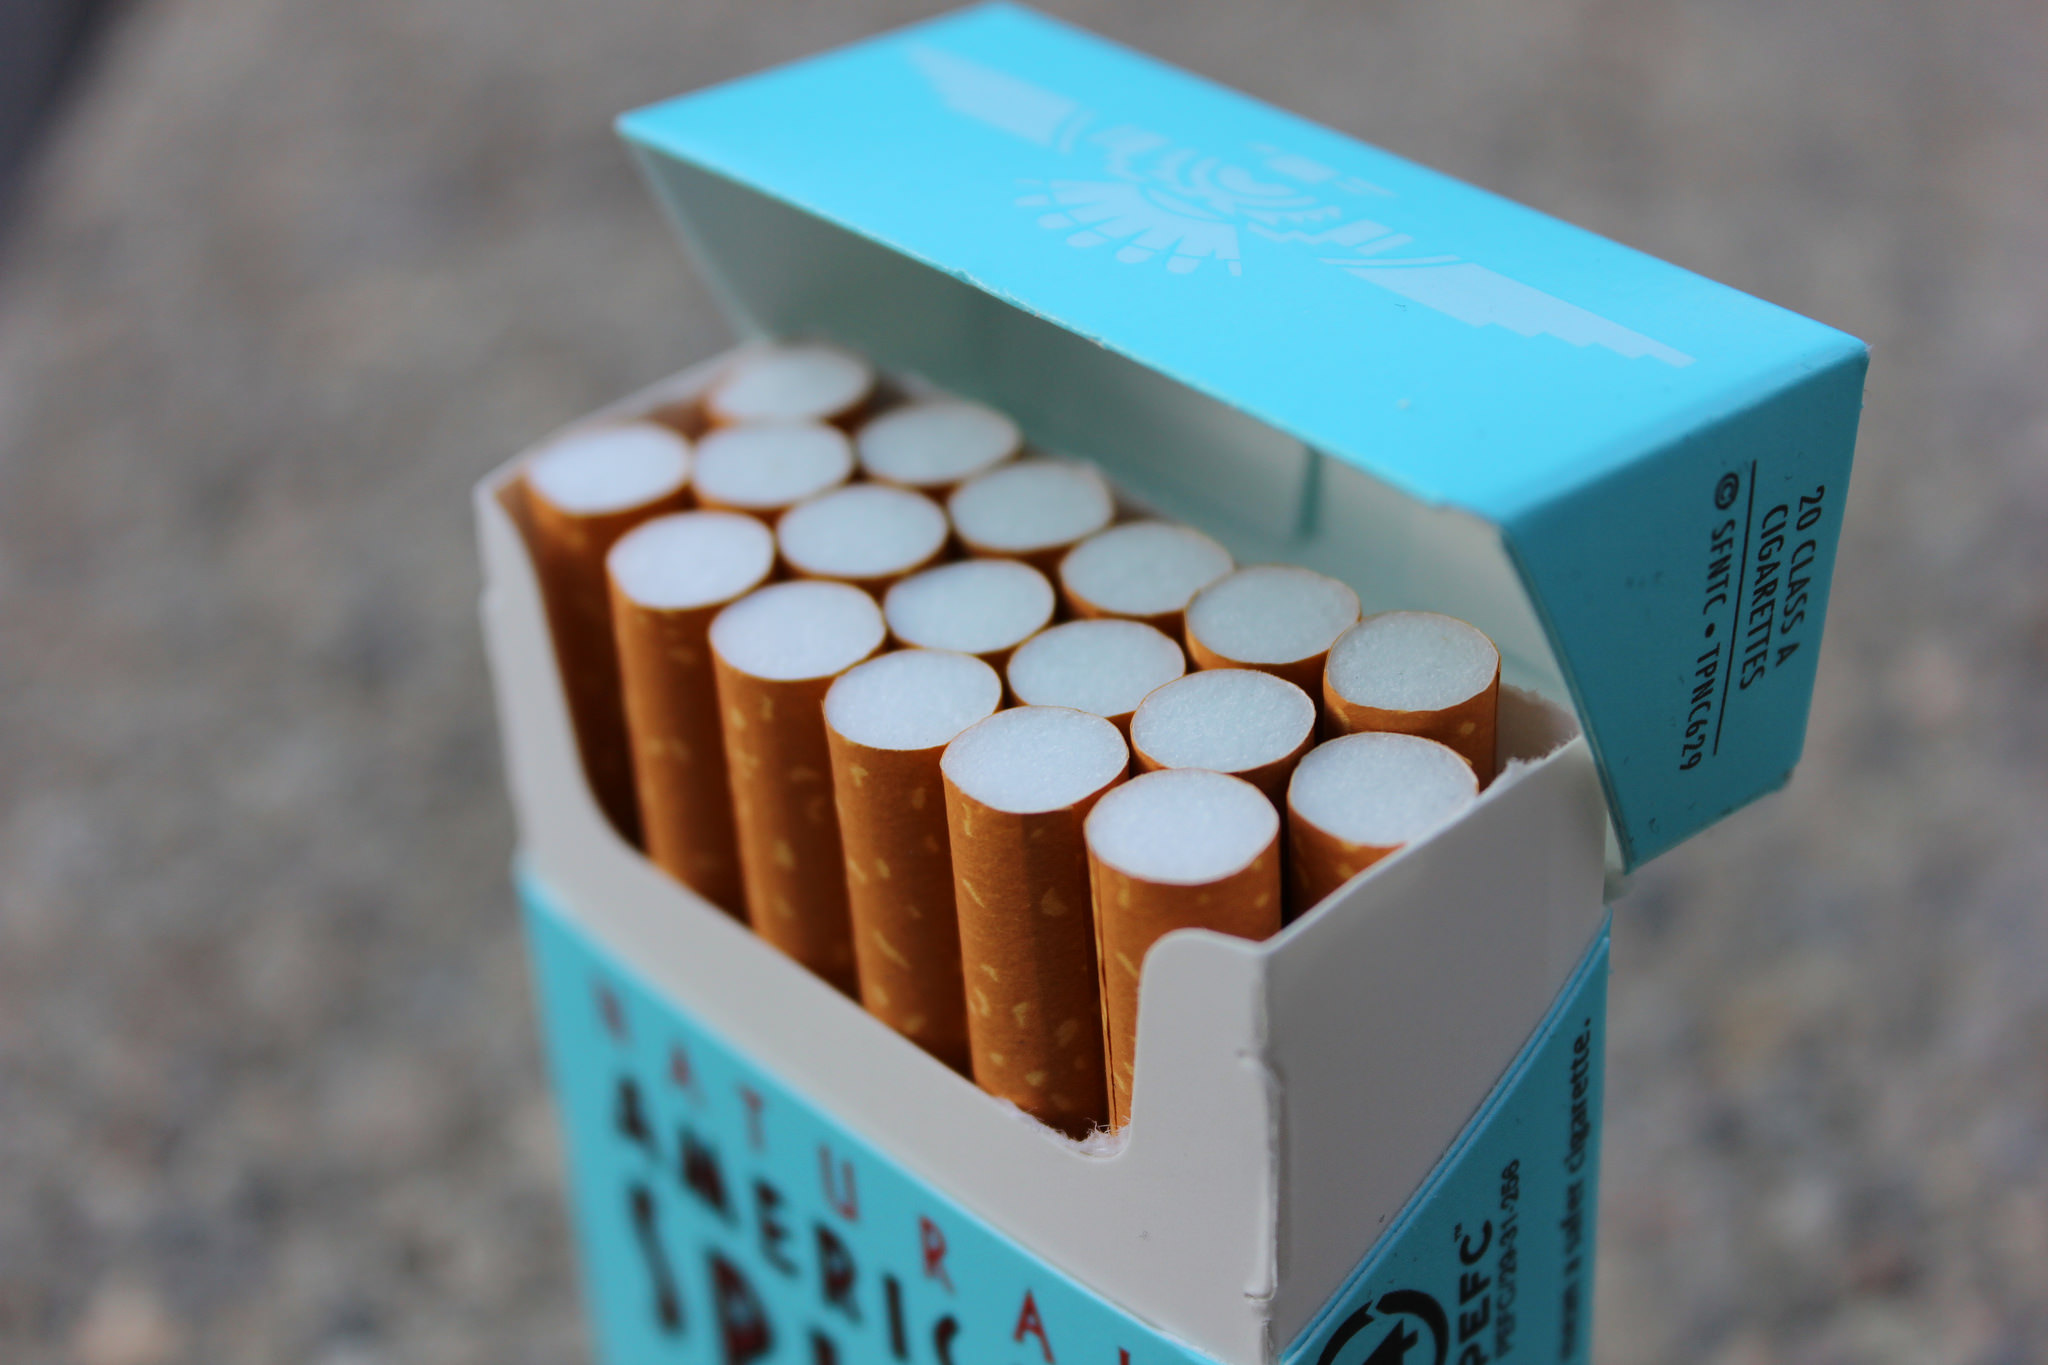cigarette: (498, 341, 1518, 1165)
